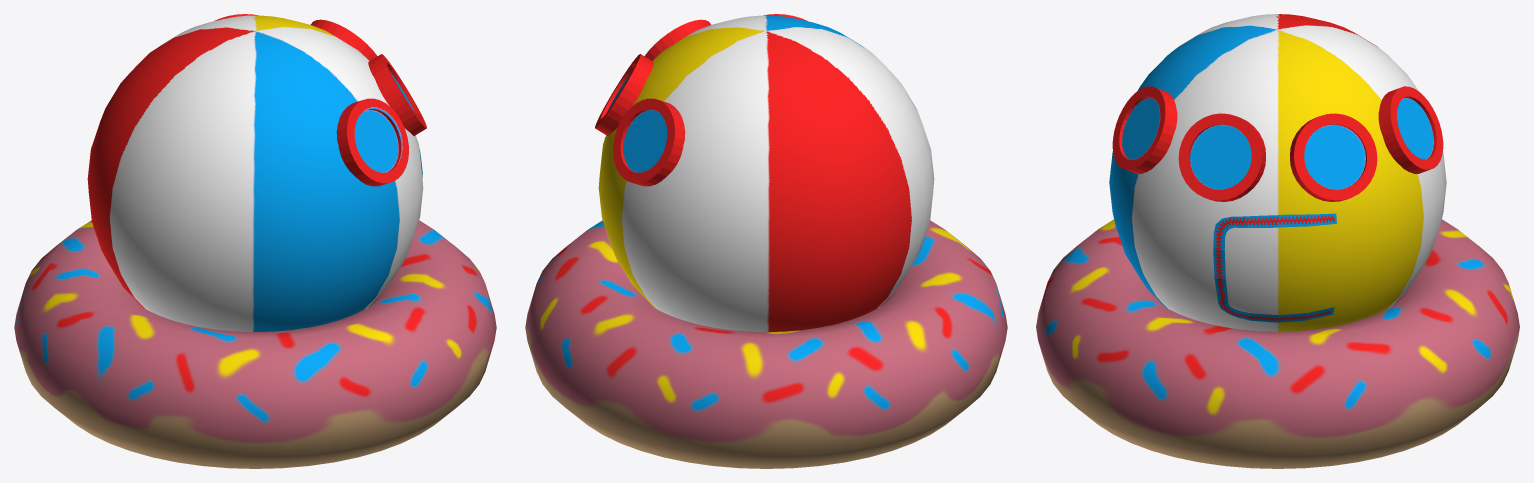
File: End2_House1.fbx
The picture shows the model from 3 angles, left to right: view 1: azimuth 30°, elevation 25°; view 2: azimuth 150°, elevation 25°; view 3: azimuth 270°, elevation 25°; orthographic projection.
Visible parts, largest first — view 1: HouseBase; view 2: HouseBase; view 3: HouseBase.
Part boxes in pixels (x1,y1,x2,y2): HouseBase: [14, 14, 496, 468]; HouseBase: [525, 14, 1007, 468]; HouseBase: [1036, 14, 1519, 468].
Size of the model in its own units: 10.73 by 8.8 by 10.73.
1 material, 1 textured.
